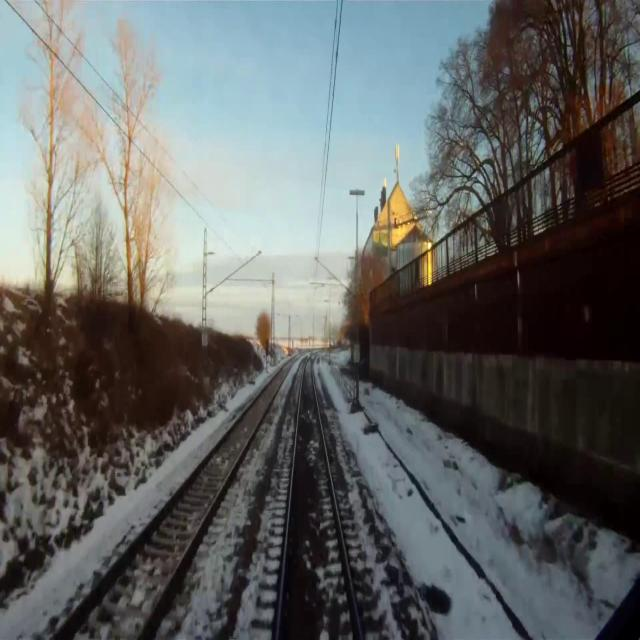rail-track: (57, 363, 290, 639), (280, 359, 358, 639)
